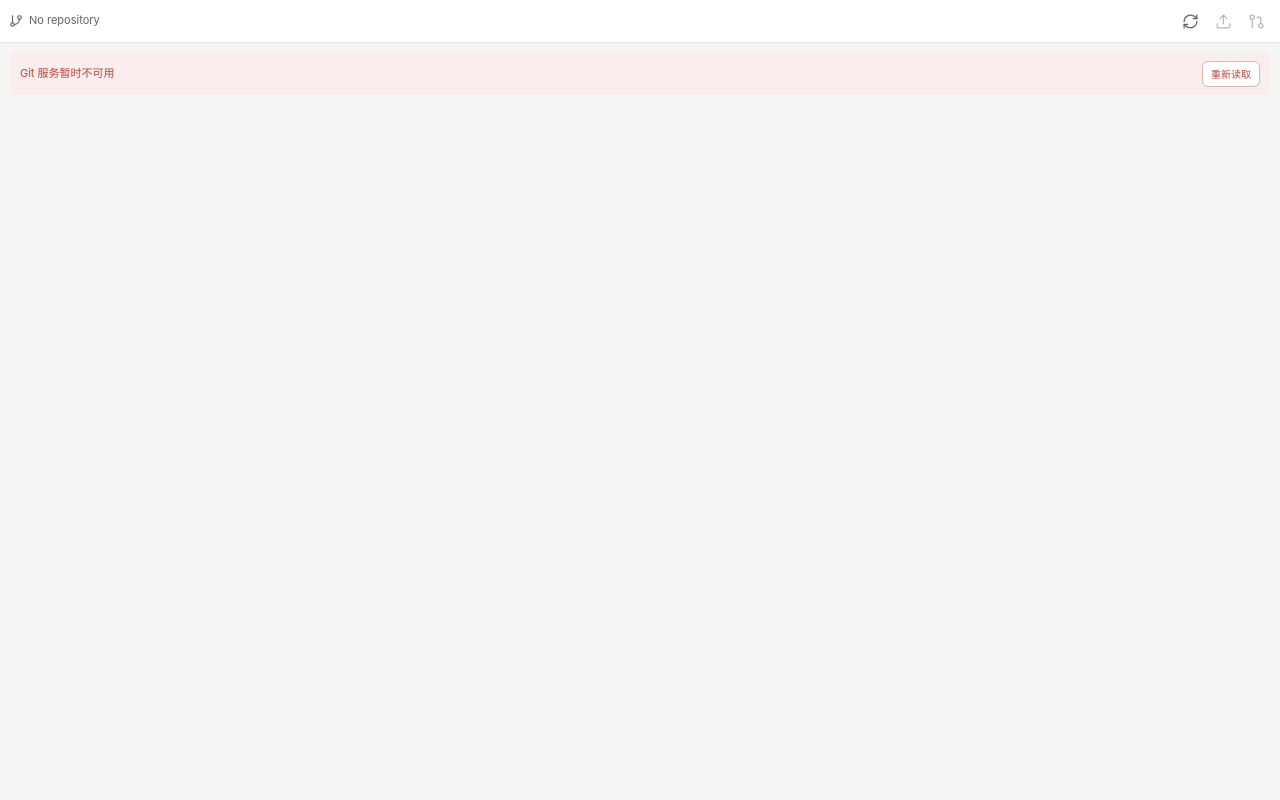
Test case: GitPane › retries Git state loading in place after a transport failure
This screenshot has width=1280, height=800.
Expected: the message shows "Git 服务暂时不可用", [20,66,115,80]
Step 1. Click the button "重新读取" → (1231, 74), box [1202,61,1260,87]
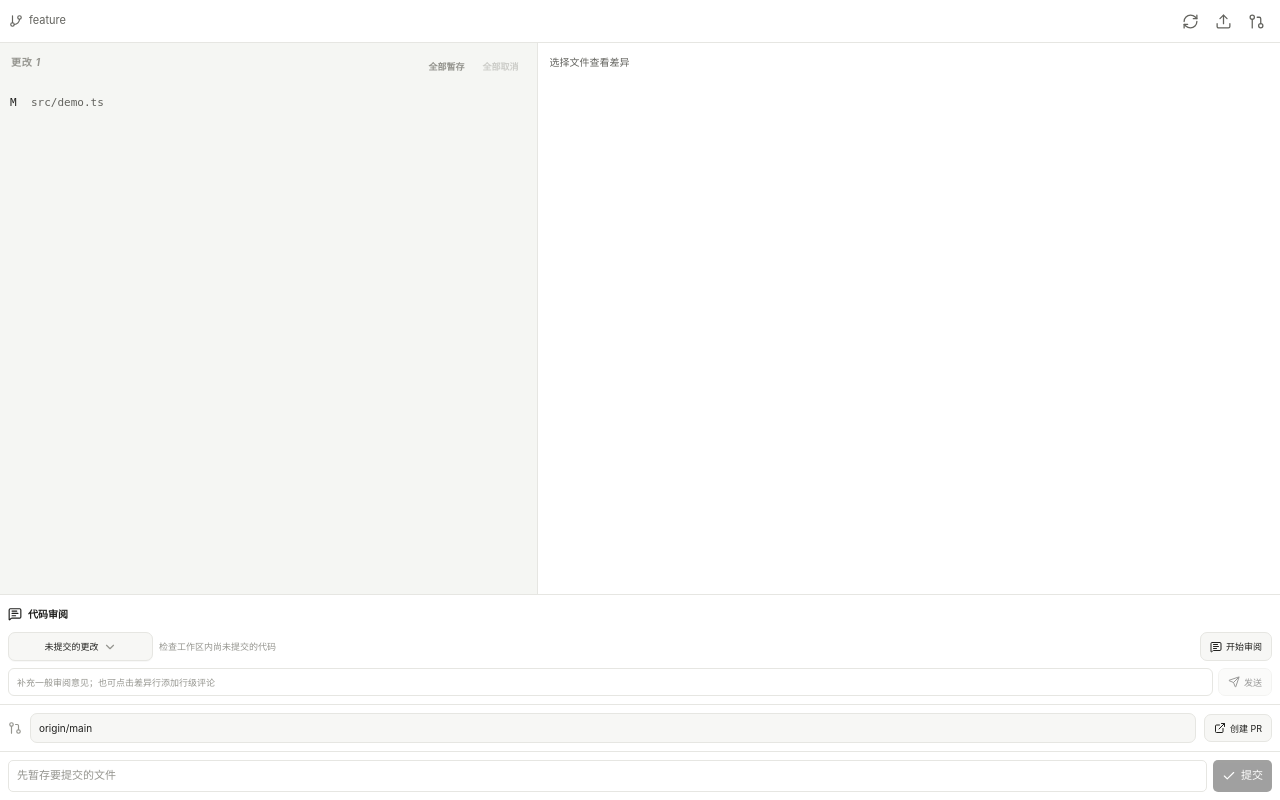
Expected: the text "src/demo.ts" is shown, [31,96,104,110]
Expected: the message "Git 服务暂时不可用 重新读取" is gone
